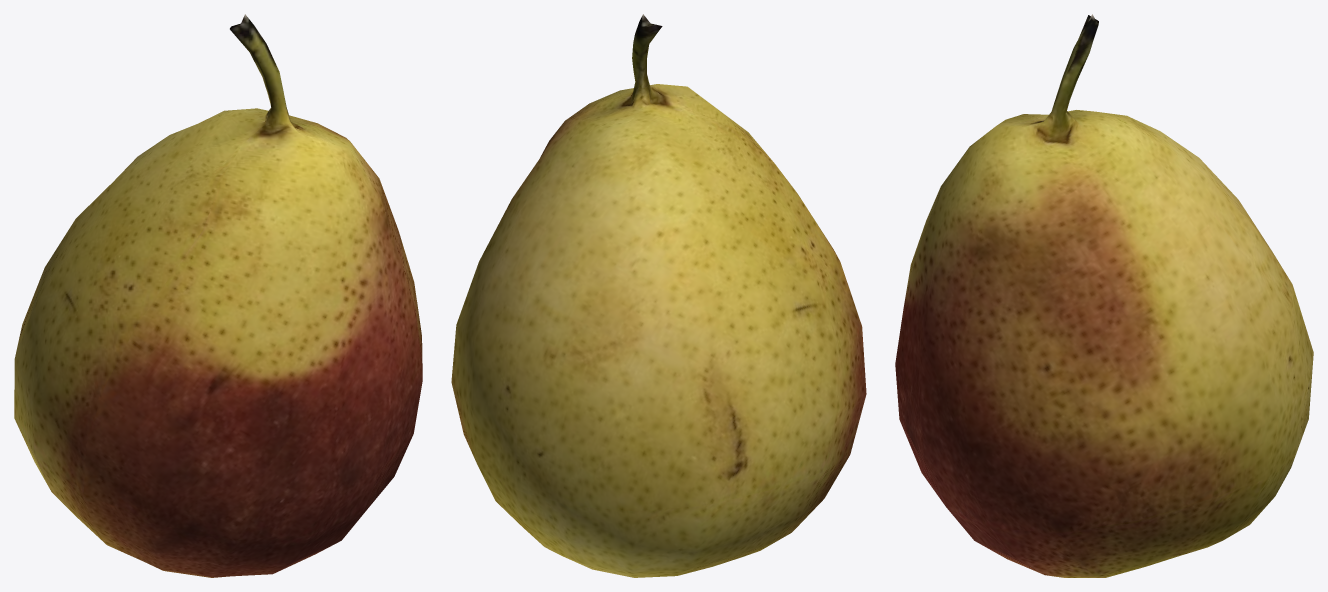
The model's file is A112_Pear_low.fbx.
3 views of the same model, side by side, from view 1: azimuth 30°, elevation 25°; view 2: azimuth 150°, elevation 25°; view 3: azimuth 270°, elevation 25° (orthographic). The views are drawn at different scales.
Visible parts, largest first — view 1: A112_Pear_low; view 2: A112_Pear_low; view 3: A112_Pear_low.
Boxes of the visible parts, left/top/right/bottom form: A112_Pear_low: left=14, top=14, right=422, bottom=577; A112_Pear_low: left=451, top=14, right=866, bottom=577; A112_Pear_low: left=895, top=14, right=1313, bottom=577.
Size of the model in its own units: 7.28 by 7.09 by 10.16.
Materials: 1 (1 with a texture image).
